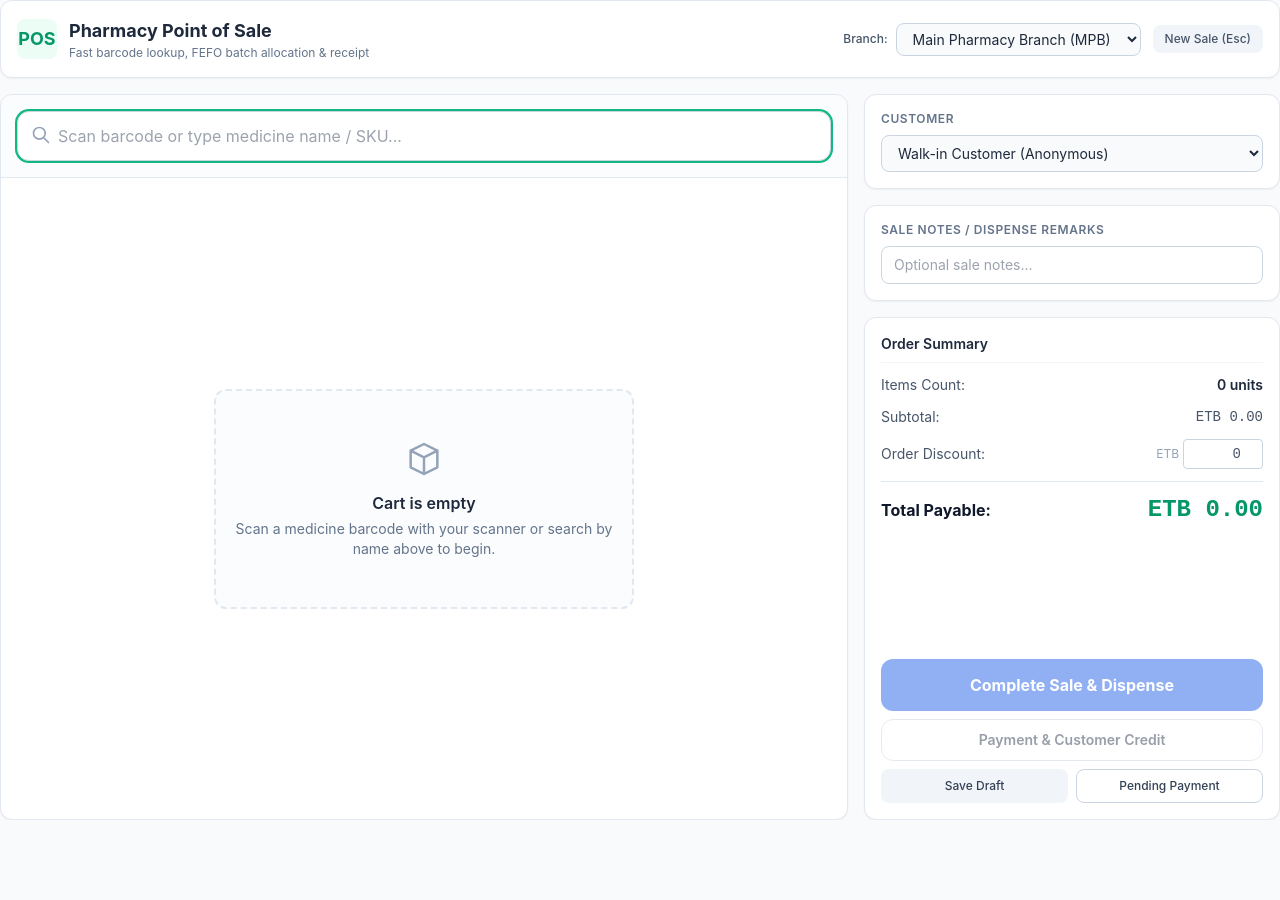
Test: POS & Sales Pages › Cart quantity updates, line discount, order discount, and total recalculations
Expected: the dropdown showing "Main Pharmacy Branch" is shown, x1=896 y1=22 x2=1141 y2=56
Step 1. Type "Amoxicillin" into the field with placeholder "Scan barcode or type medicine name / SKU..." → [424, 136], box x1=17 y1=111 x2=831 y2=161
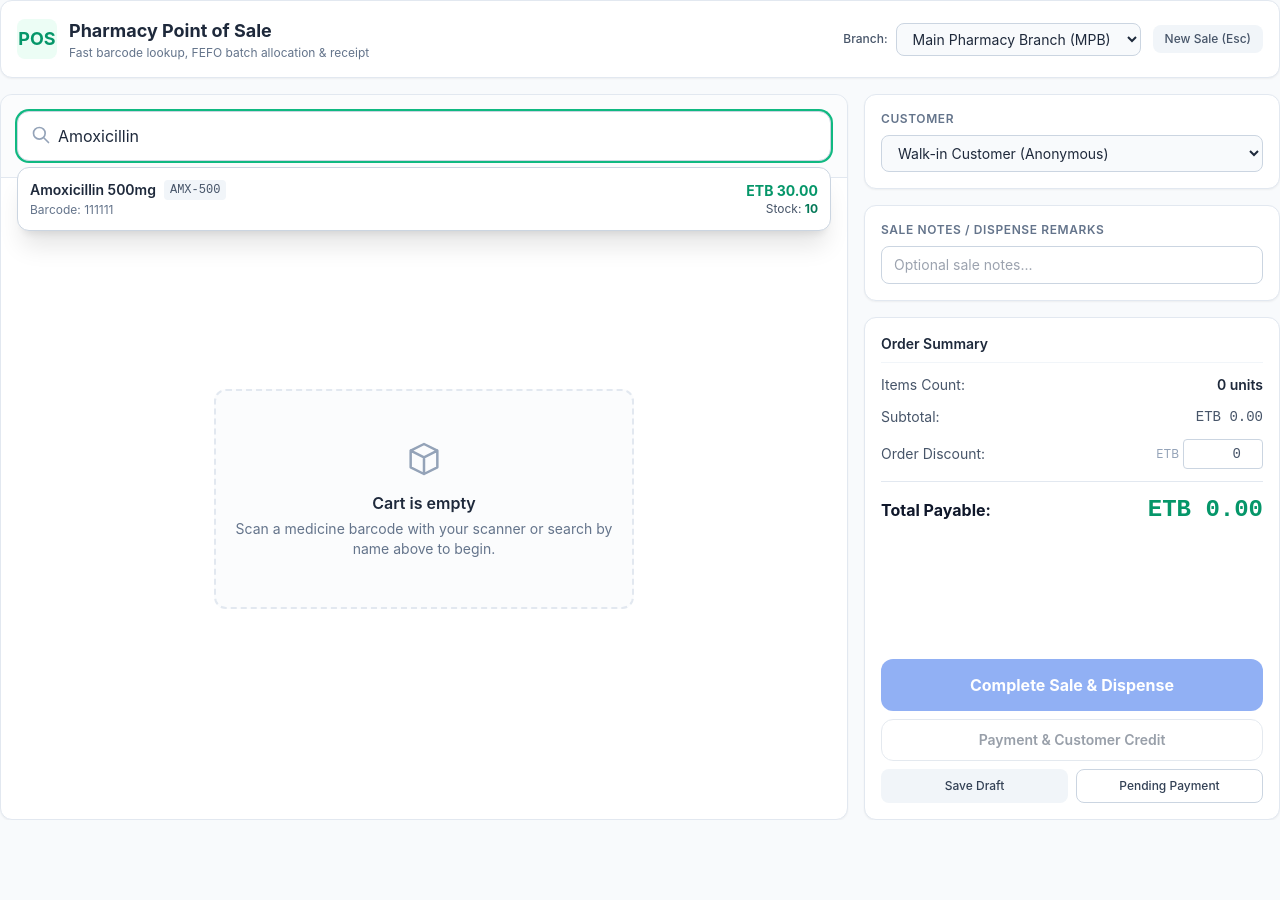
Expected: the text "Amoxicillin 500mg" is shown
Step 2. Click the text "Amoxicillin 500mg" → [93, 190], box x1=30 y1=180 x2=156 y2=200
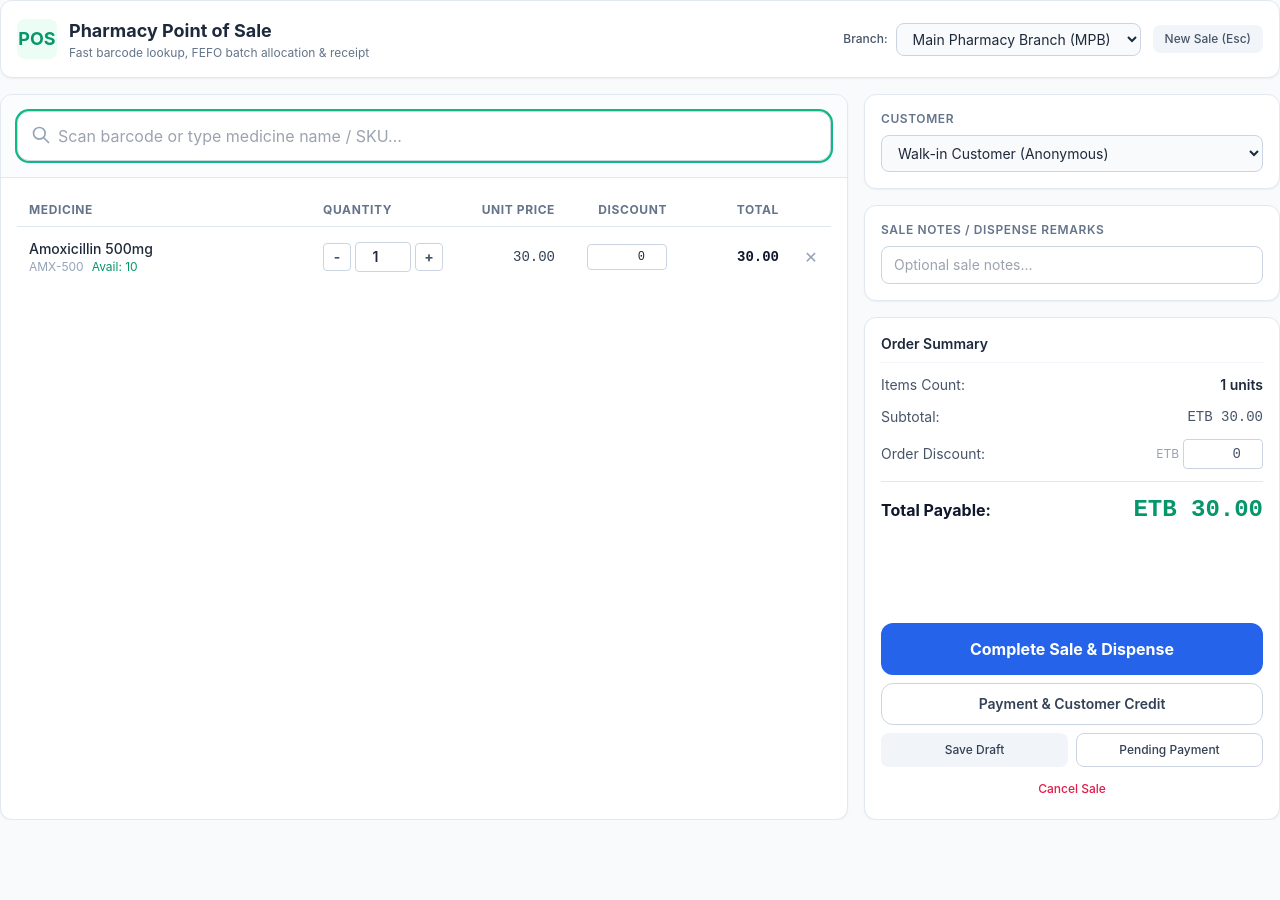
Expected: the text "ETB 30.00" in the row of "Subtotal:" is shown, x1=1187 y1=407 x2=1263 y2=427
Increment qty with + button
Step 3. Click the button "+" → [429, 257], box x1=415 y1=243 x2=443 y2=271
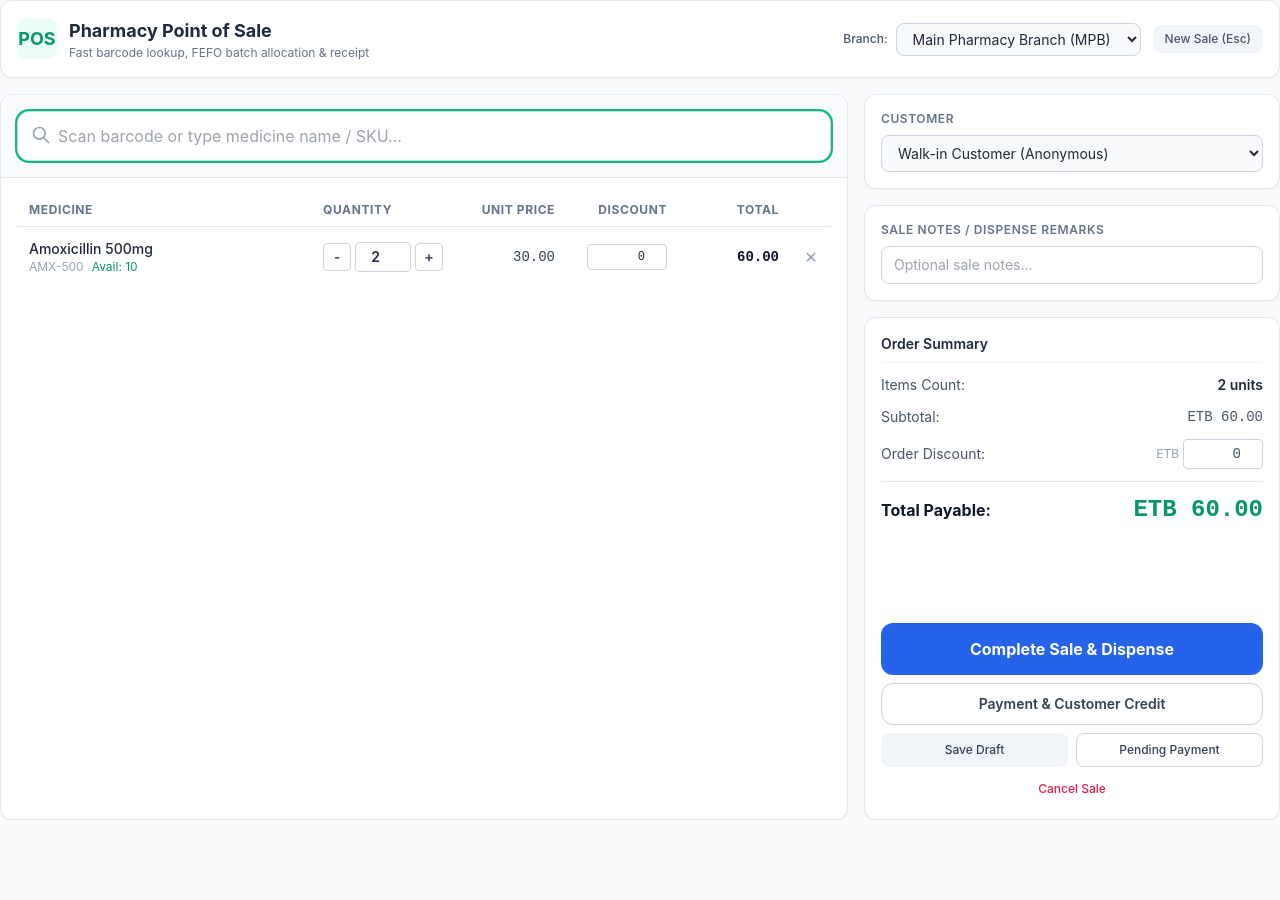
Expected: the text "ETB 60.00" in the row of "Subtotal:" is shown, x1=1187 y1=407 x2=1263 y2=427
Apply 10 ETB discount on order
Step 4. Replace the text in the number field in the row of "Order Discount:" with "10" → [1223, 454], box x1=1183 y1=439 x2=1263 y2=469
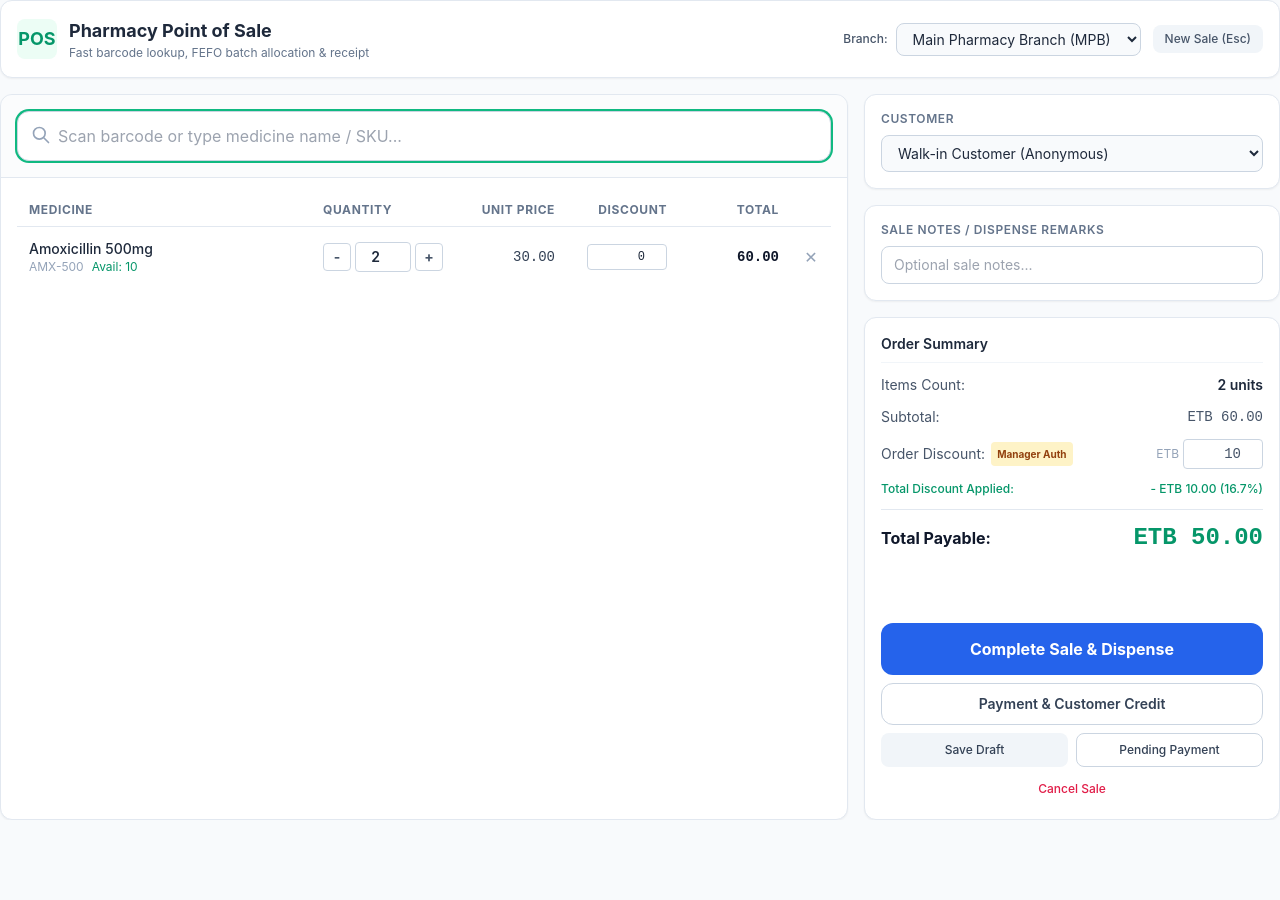
Expected: the text "ETB 50.00" is shown, x1=1133 y1=522 x2=1263 y2=554
